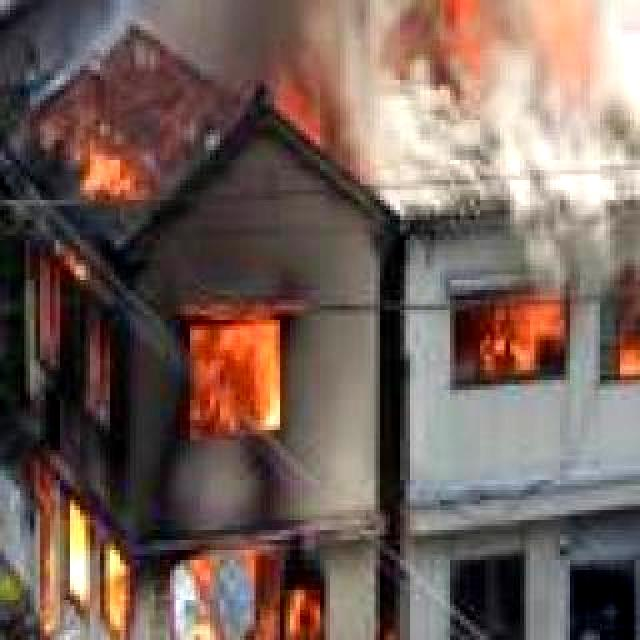fire: (6, 92, 336, 640), (466, 280, 640, 396), (384, 0, 600, 92)
